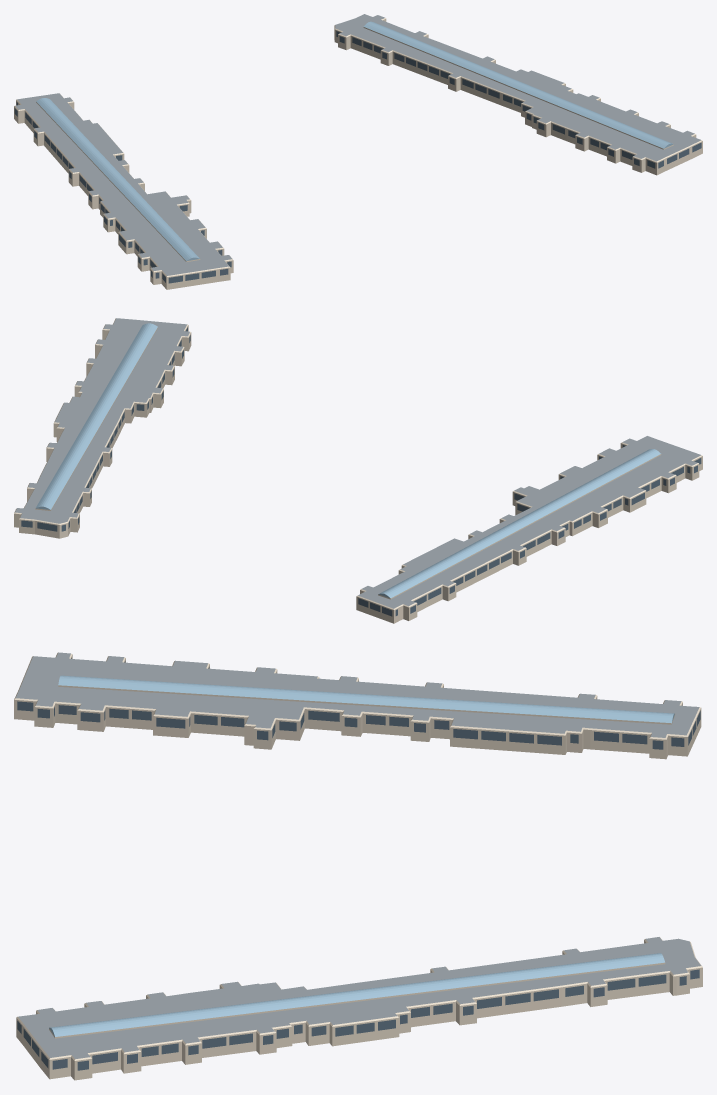
3 renders of one model, top to bottom at view 1: azimuth 30°, elevation 25°; view 2: azimuth 150°, elevation 25°; view 3: azimuth 270°, elevation 25°, orthographic. The views are drawn at different scales.
Parts seen in each view (by area): view 1: charlotte-douglas-international-airport-concourses-b-and-c; view 2: charlotte-douglas-international-airport-concourses-b-and-c; view 3: charlotte-douglas-international-airport-concourses-b-and-c.
Boxes of the visible parts, box(x1,y1,x2,y2) form: charlotte-douglas-international-airport-concourses-b-and-c: box(14, 14, 702, 289); charlotte-douglas-international-airport-concourses-b-and-c: box(14, 318, 702, 623); charlotte-douglas-international-airport-concourses-b-and-c: box(14, 652, 702, 1080).
Size of the model in its own units: 340 by 10 by 242.
